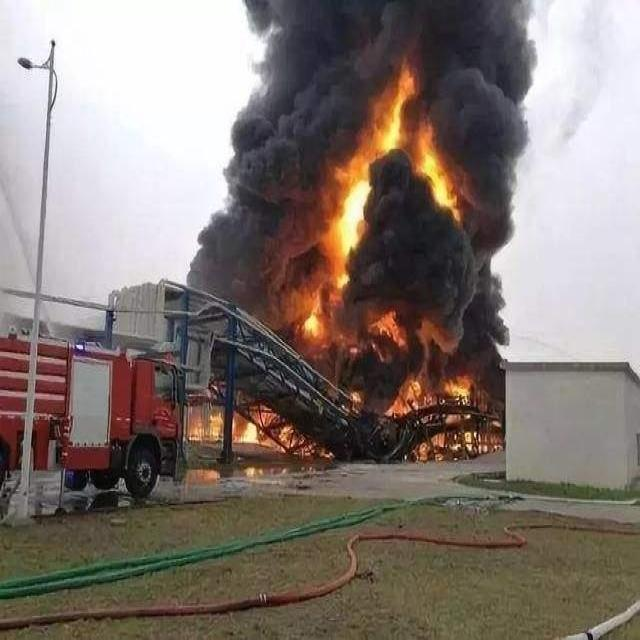Fire: (328, 62, 463, 286), (382, 376, 506, 463), (230, 408, 335, 458), (367, 305, 408, 348), (183, 408, 223, 442), (302, 291, 325, 339)
Smoke: (185, 1, 538, 462)
